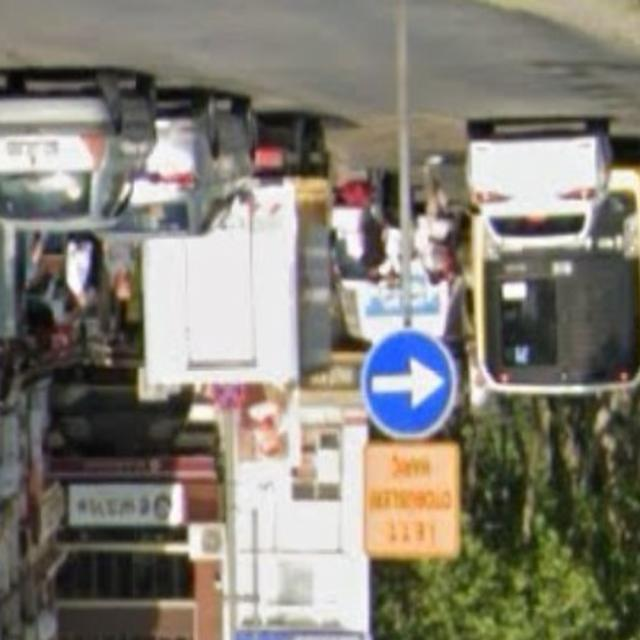Turn Right: (349, 331, 462, 439)
